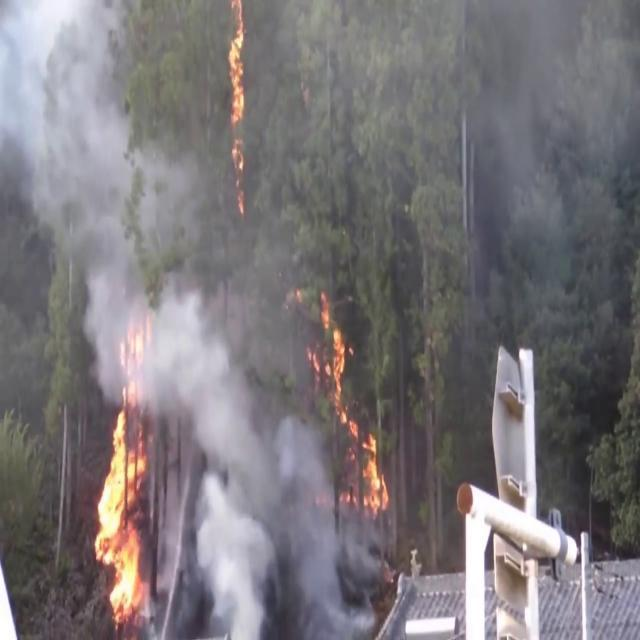Fire: (312, 294, 388, 522), (89, 404, 154, 628), (225, 0, 249, 201)
Smoke: (163, 225, 347, 631), (0, 0, 189, 384), (455, 0, 640, 366)
